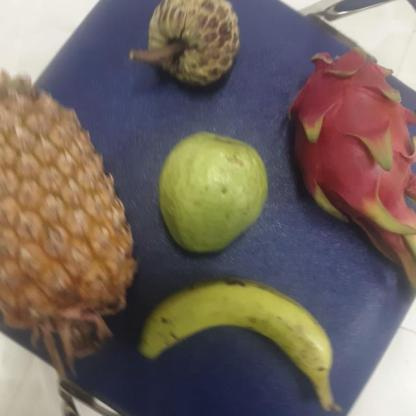annona: (139, 0, 246, 90)
banana: (148, 278, 341, 389)
guava: (156, 133, 275, 251)
pitaya: (286, 57, 416, 220)
